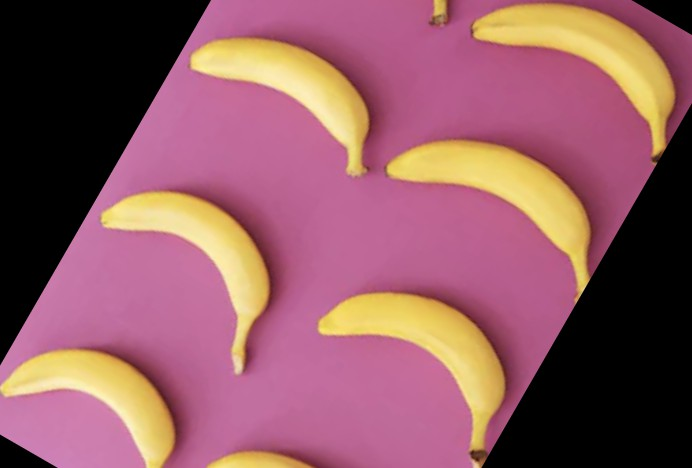fresh_banana: (317, 293, 507, 467), (472, 1, 676, 162), (385, 139, 595, 294), (102, 192, 269, 374), (192, 39, 370, 177), (1, 349, 174, 468)
